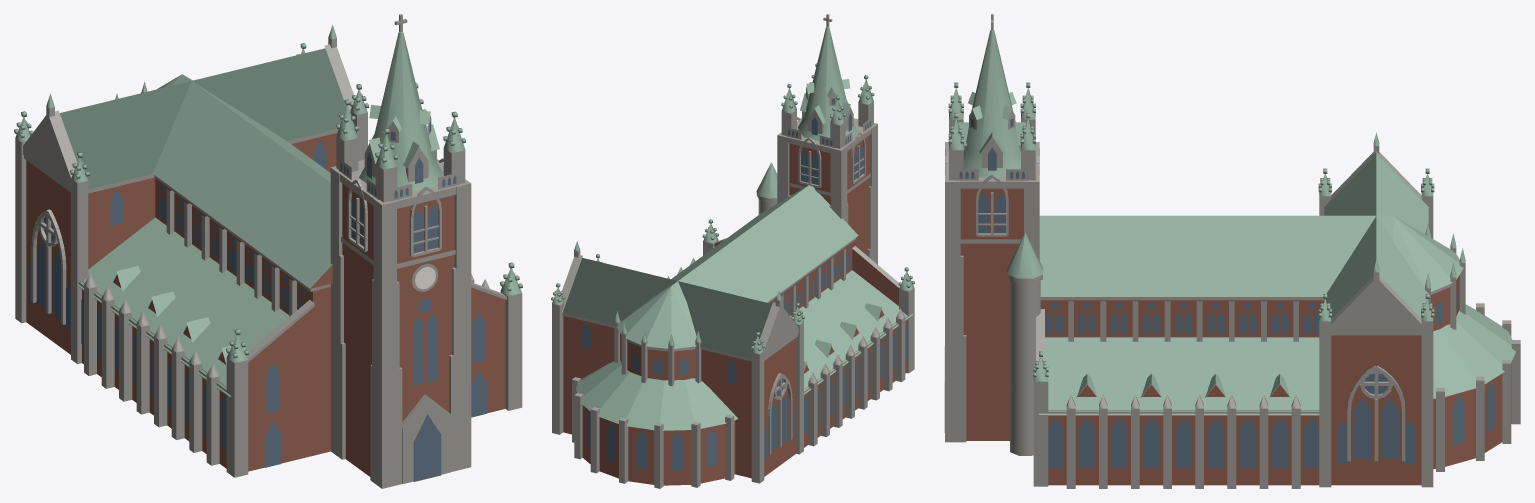
The model's file is seoul-myeongdong-cathedral.glb.
3 renders of one model, left to right at view 1: azimuth 30°, elevation 25°; view 2: azimuth 150°, elevation 25°; view 3: azimuth 270°, elevation 25°, orthographic. The views are drawn at different scales.
Visible parts, largest first — view 1: Myeongdong Cathedral; view 2: Myeongdong Cathedral; view 3: Myeongdong Cathedral.
Boxes of the visible parts, x1=… form: Myeongdong Cathedral: x1=14, y1=14, x2=522, y2=488; Myeongdong Cathedral: x1=551, y1=14, x2=914, y2=488; Myeongdong Cathedral: x1=944, y1=14, x2=1520, y2=488.
Bounding box in the file's own units: 32.41 × 46.2 × 59.27.
